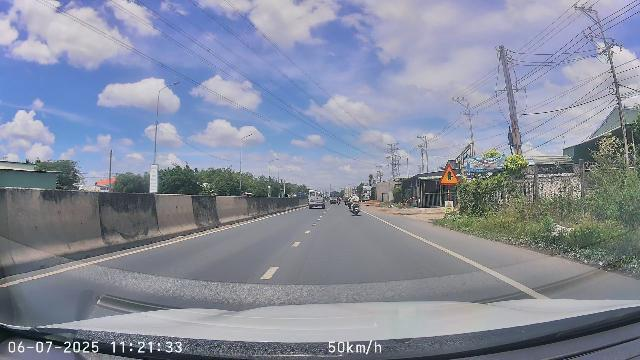207-giao-nhau-voi-duong-khong-uu-tien: (439, 164, 459, 185)
